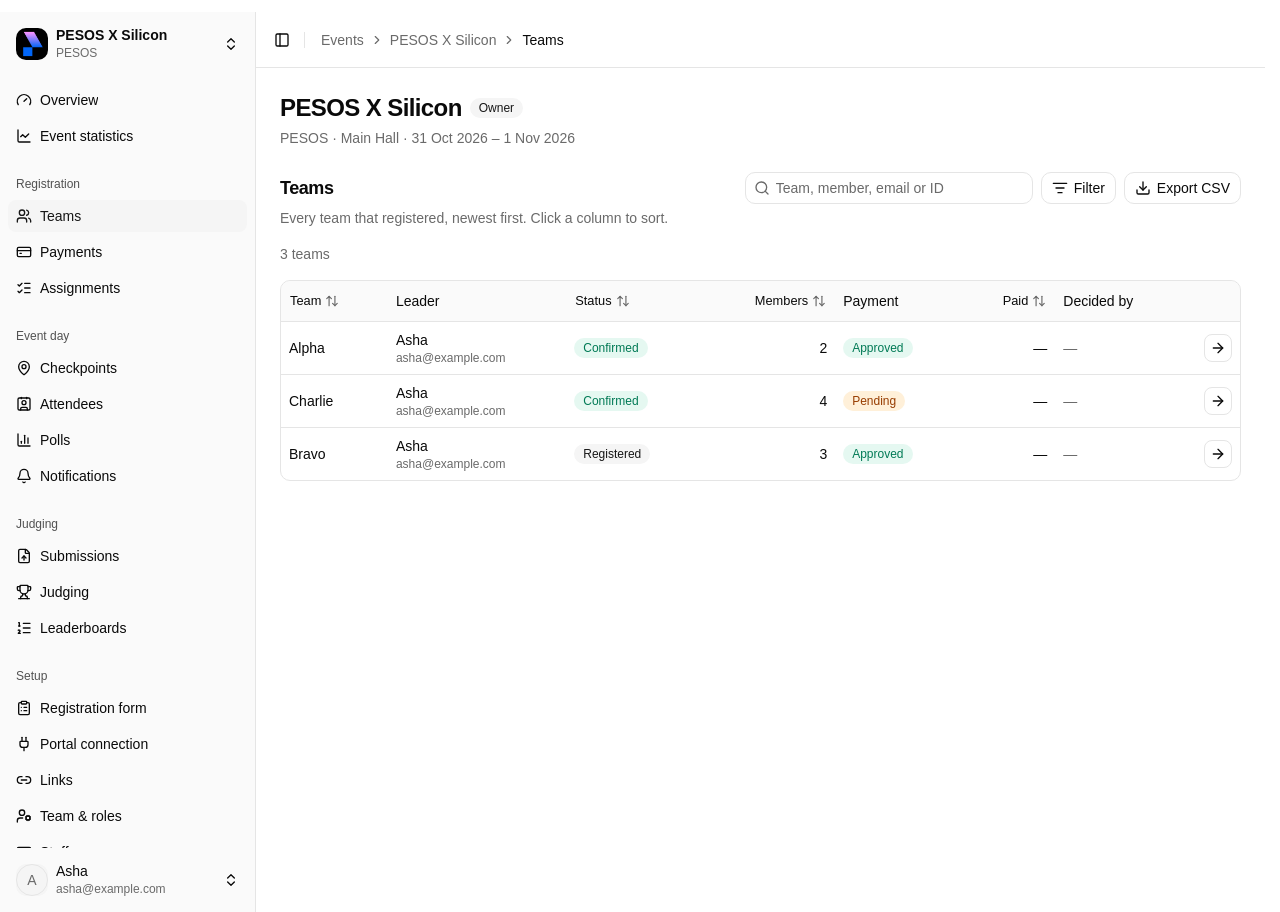
Scenario: teams › sorts by a column, counts what the filter leaves, and shows receipt states as badges
The width and height of the screenshot is (1280, 912).
Expected: the text "3 teams" is shown, [280,246,330,262]
Click the button "Members" at (790, 301), box [746,285,835,317]
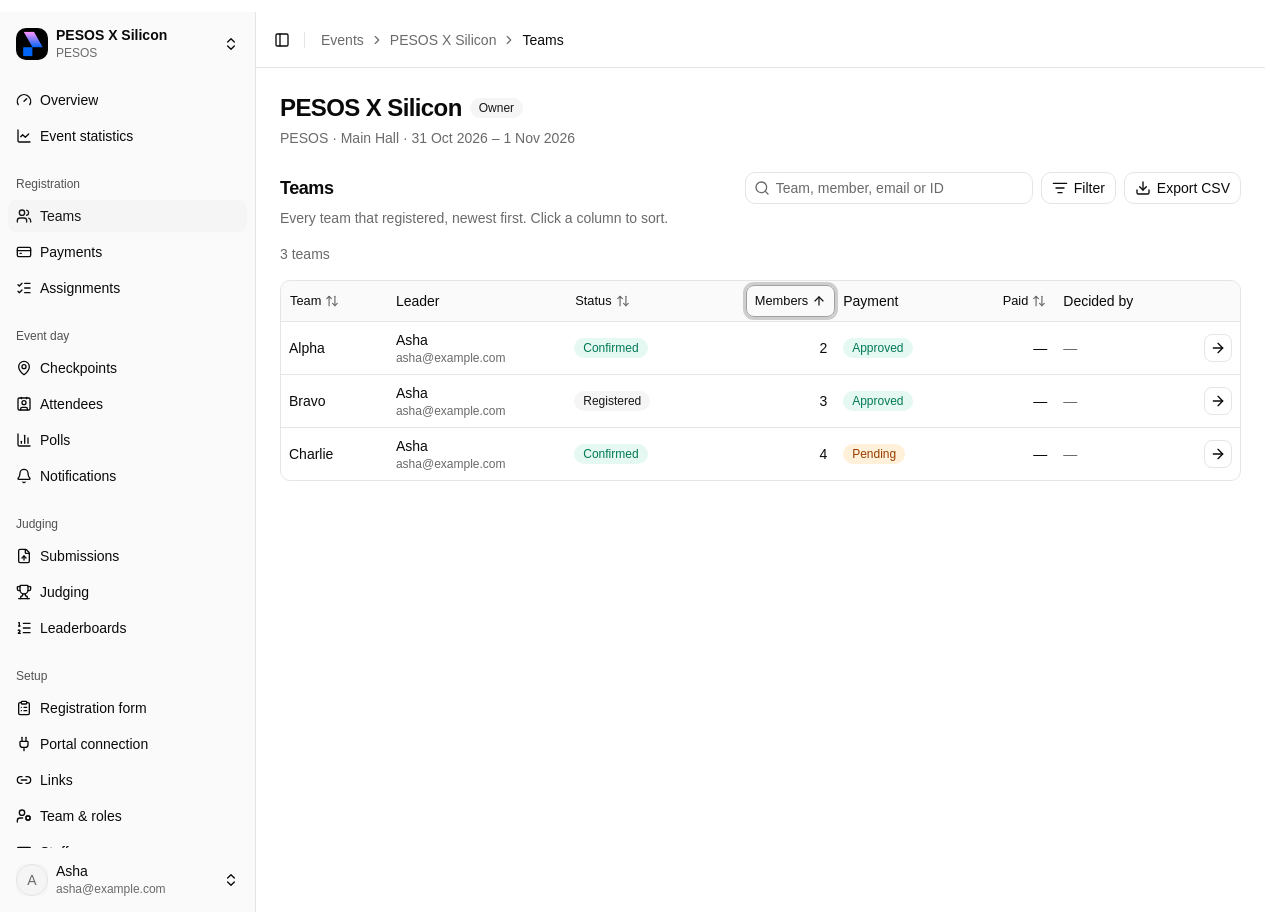
Click the button "Members" at (790, 301), box [746,285,835,317]
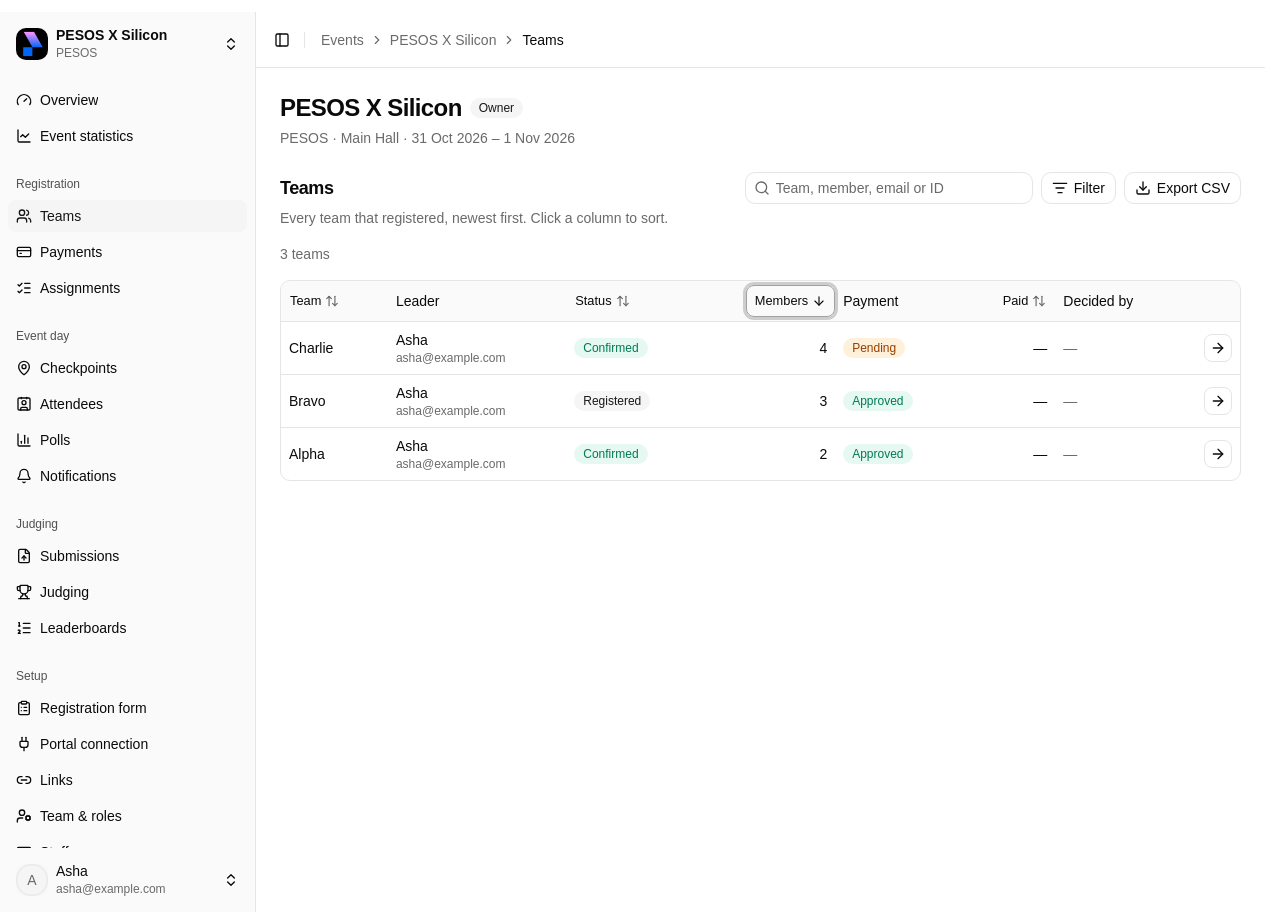
Expected: the column heading "Members" has attribute aria-sort="descending", [697,281,835,321]
Click the button "Team" at (315, 301), box [281,285,348,317]
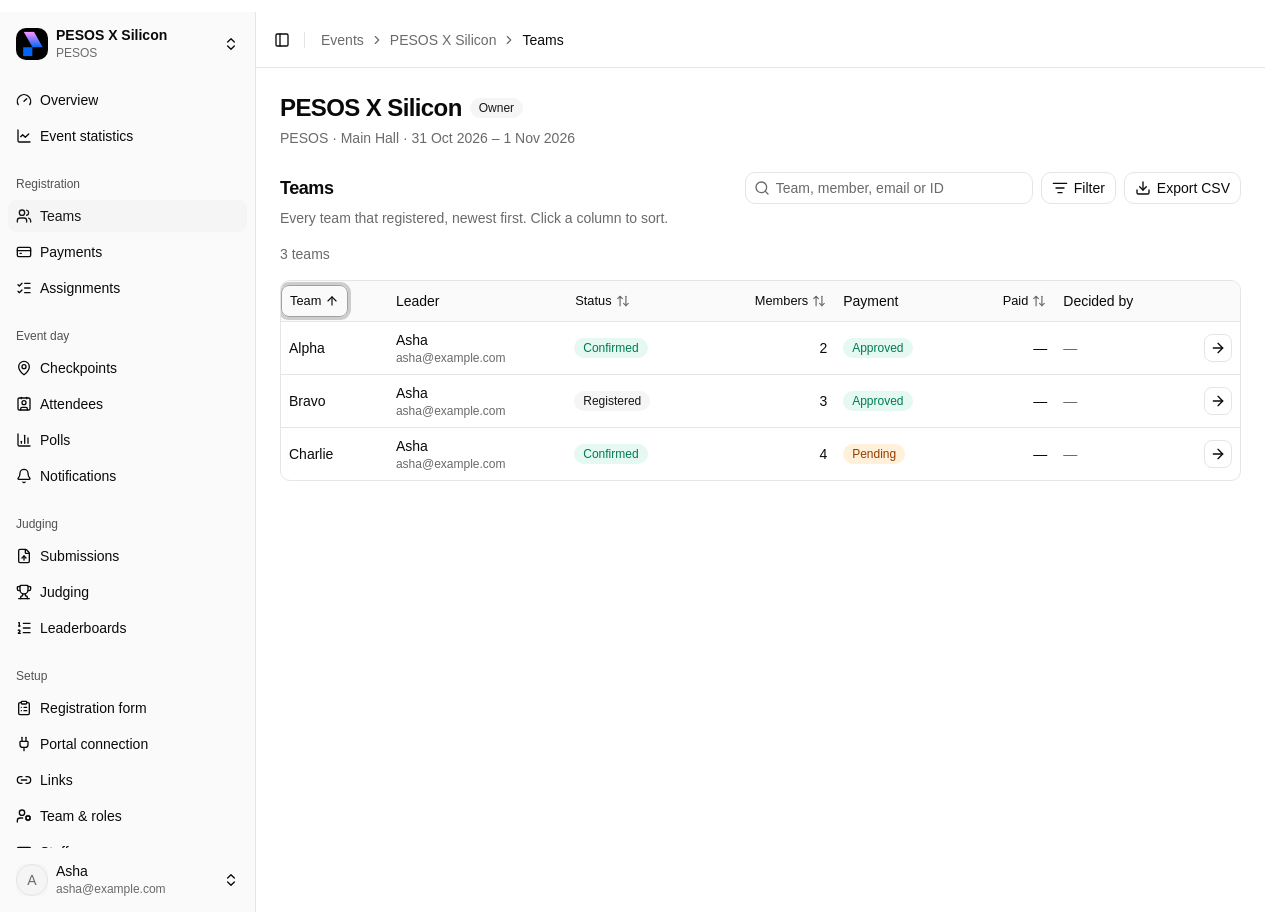
Click the button with aria-label "Show: " at (1078, 188), box [1041,172,1116,204]
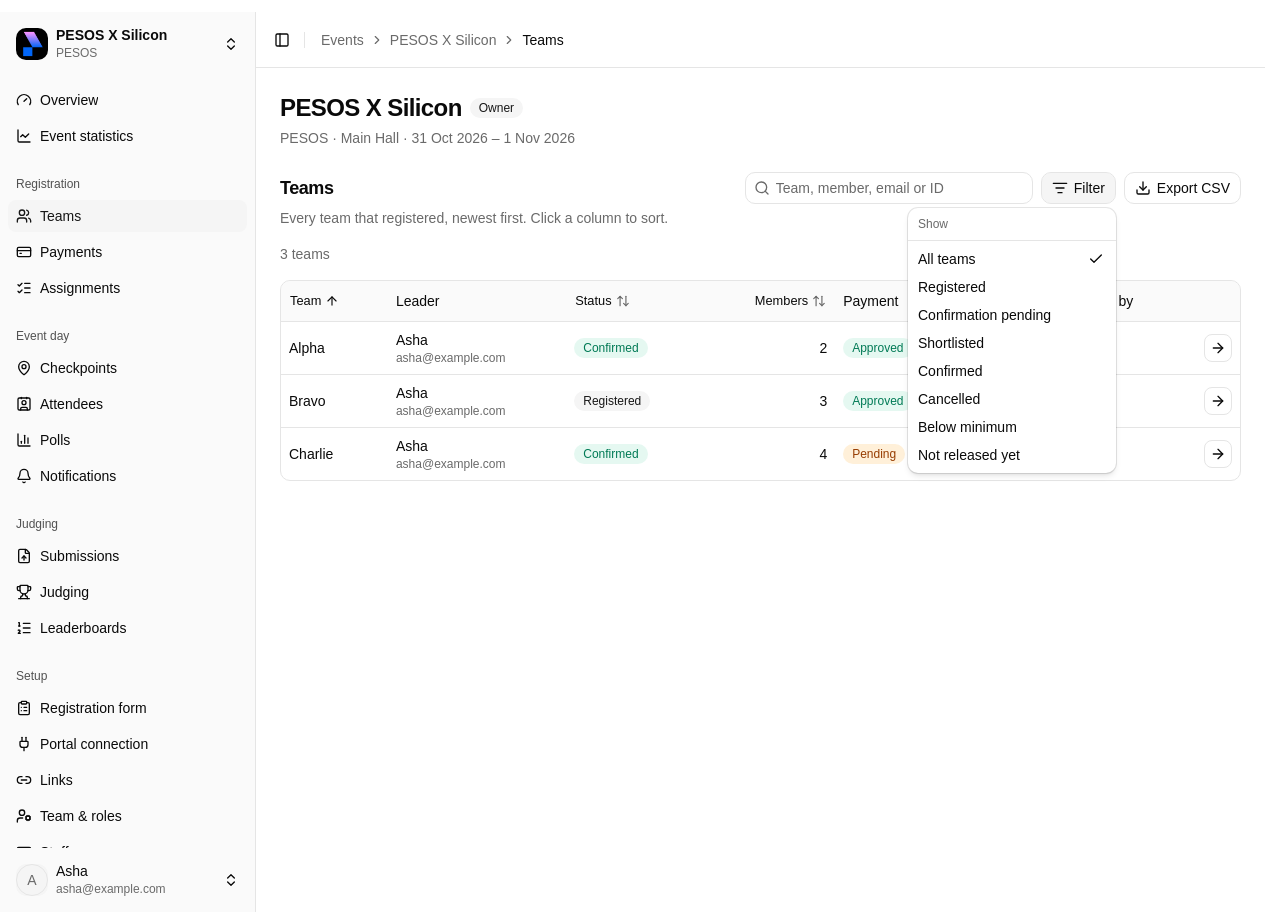
Click the menu item "Registered" at (952, 287), box [918,279,986,295]
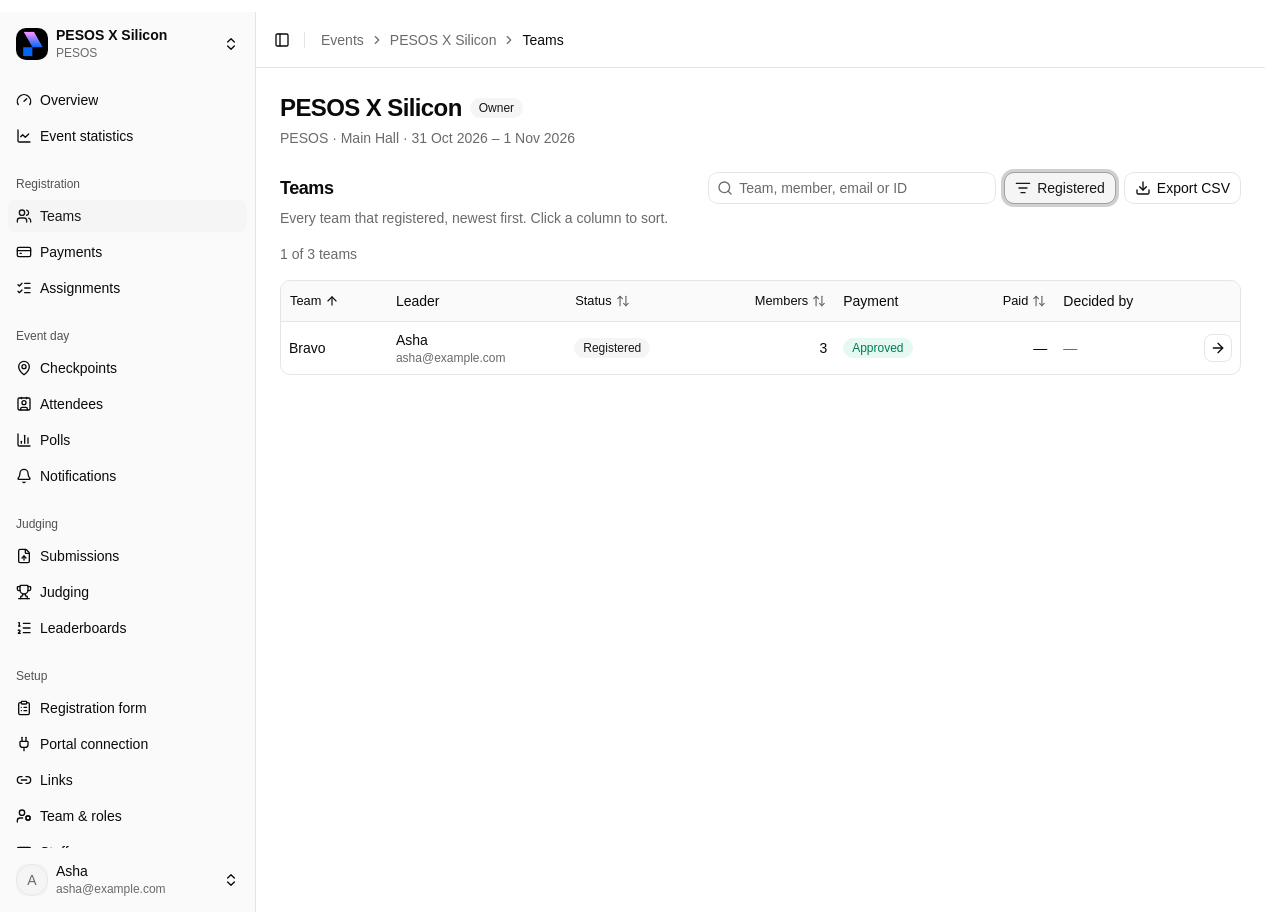
Expected: the text "1 of 3 teams" is shown, [280,246,357,262]
